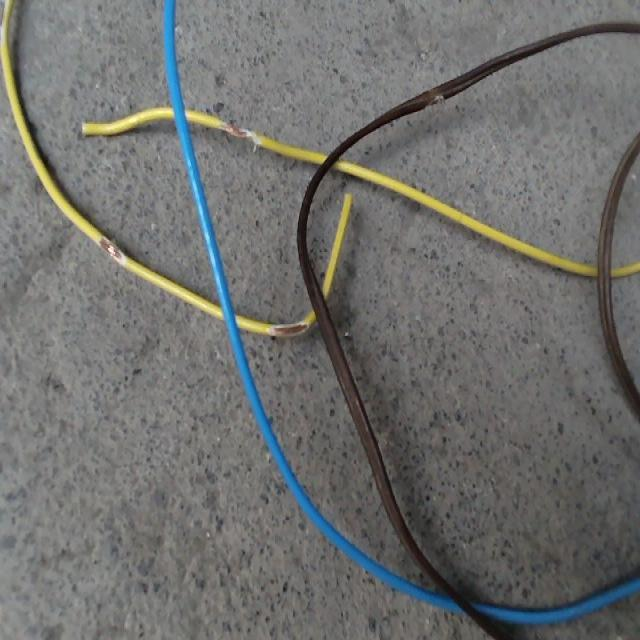-: (212, 120, 256, 145), (96, 231, 128, 265), (265, 318, 309, 338)
